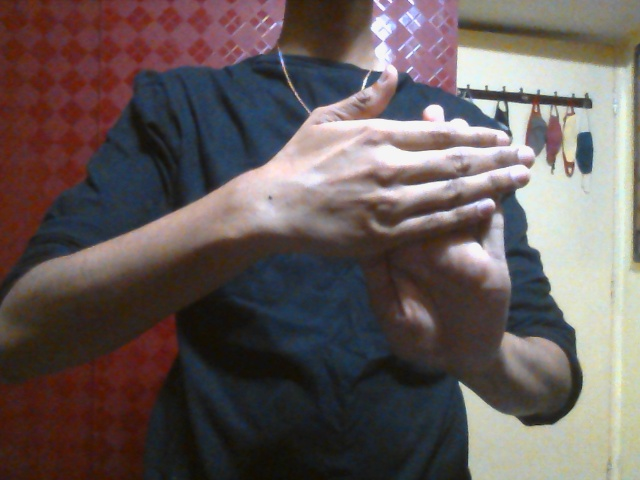H: (269, 66, 538, 366)
